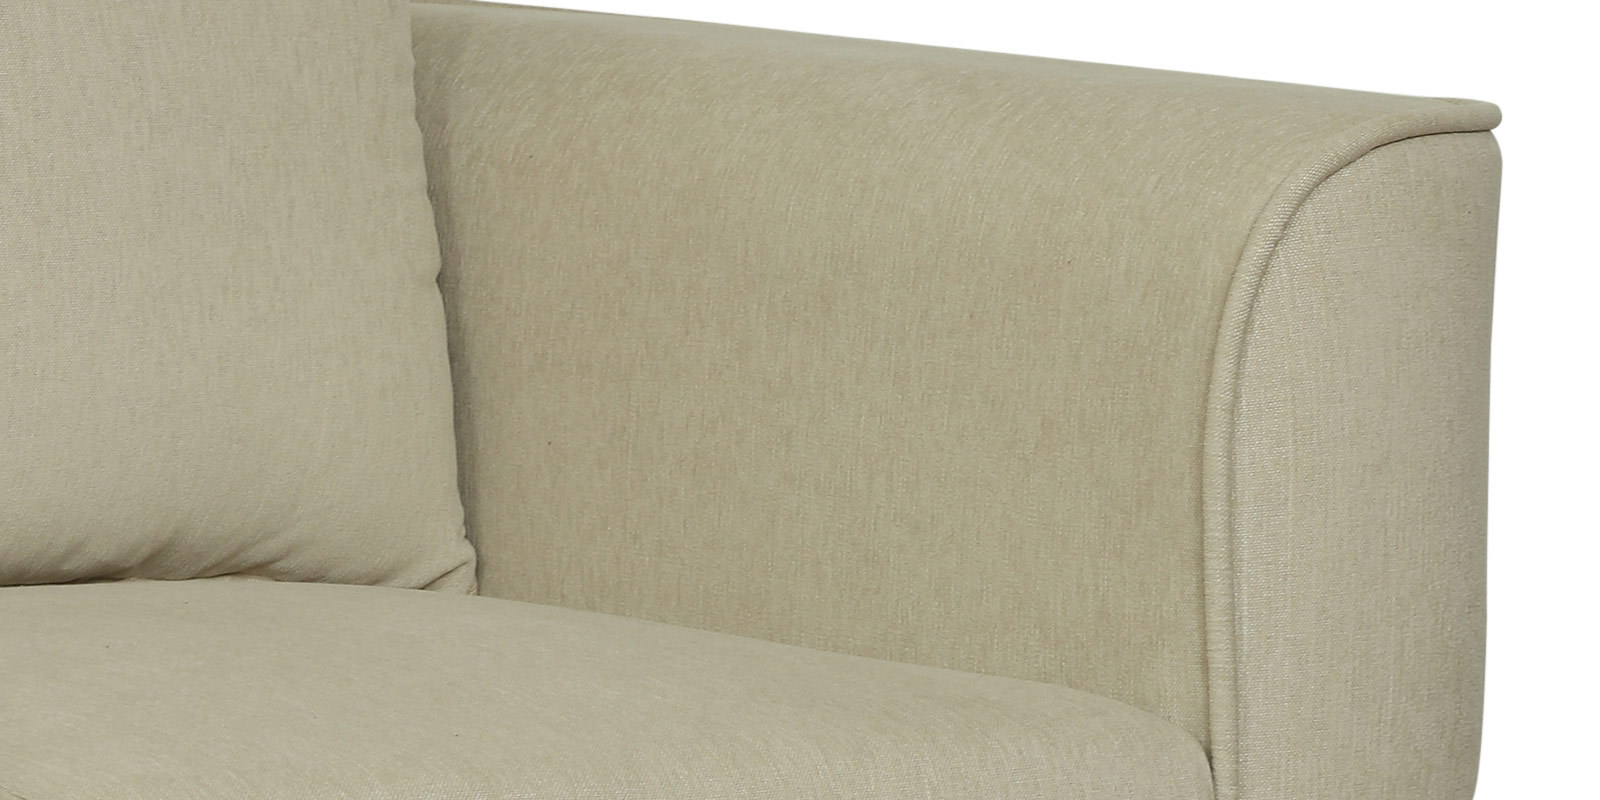Lara Three Seater Sofa in Beige Colour by CasaCraft: (1, 1, 1502, 800)
